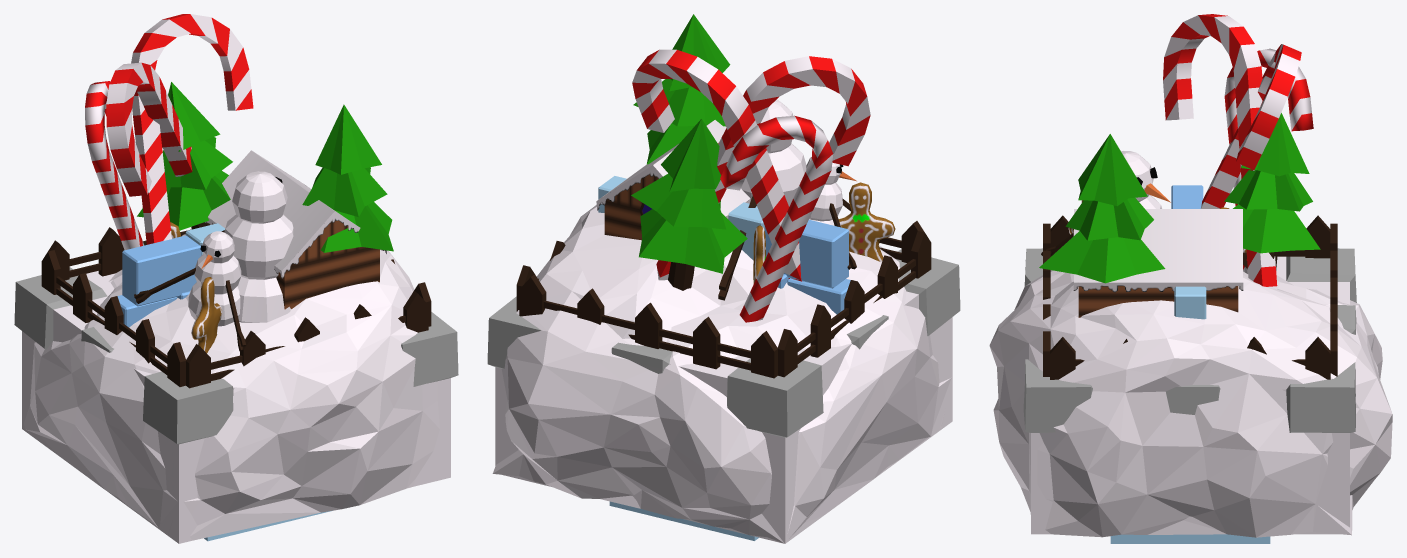
File: ChristmassBoard.fbx
3 views of the same model, side by side, from view 1: azimuth 30°, elevation 25°; view 2: azimuth 150°, elevation 25°; view 3: azimuth 270°, elevation 25° (orthographic). The views are drawn at different scales.
Visible parts, largest first — view 1: Ice_Prefab_3, Ice_Prefab_1, Ice_Prefab_2, Wall; view 2: Ice_Prefab_3, Ice_Prefab_1, Ice_Prefab_2, Wall, Ice_Block; view 3: Ice_Prefab_3, Ice_Prefab_1, Ice_Prefab_2, Wall, Ice_Block.
Part boxes in pixels (x1=…): Ice_Prefab_3: x1=24, y1=82, x2=439, y2=540; Ice_Prefab_1: x1=14, y1=14, x2=458, y2=543; Ice_Prefab_2: x1=22, y1=81, x2=450, y2=543; Wall: x1=117, y1=223, x2=225, y2=327; Ice_Prefab_3: x1=492, y1=14, x2=951, y2=543; Ice_Prefab_1: x1=487, y1=49, x2=960, y2=543; Ice_Prefab_2: x1=495, y1=115, x2=952, y2=543; Wall: x1=598, y1=176, x2=850, y2=314; Ice_Block: x1=609, y1=501, x2=758, y2=540; Ice_Prefab_3: x1=989, y1=113, x2=1392, y2=537; Ice_Prefab_1: x1=1023, y1=14, x2=1356, y2=534; Ice_Prefab_2: x1=1031, y1=48, x2=1349, y2=534; Wall: x1=1171, y1=185, x2=1206, y2=319; Ice_Block: x1=1110, y1=534, x2=1270, y2=543.
Size of the model in its own units: 233 by 316 by 253.
